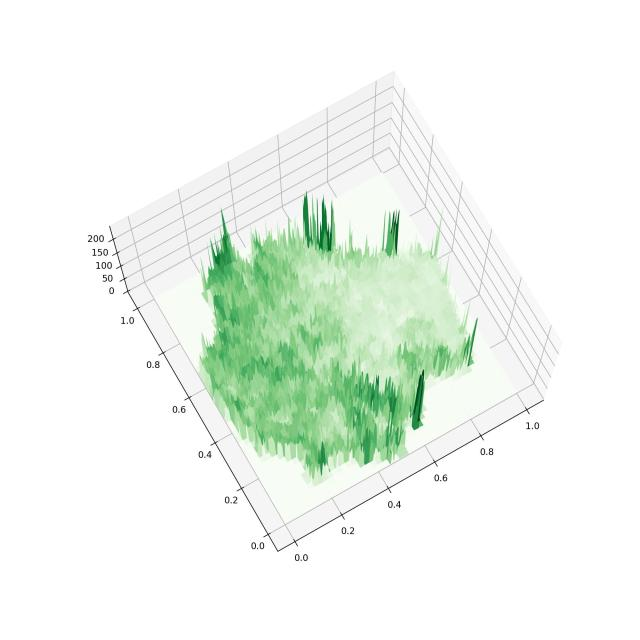pine: (66, 65, 575, 596)
